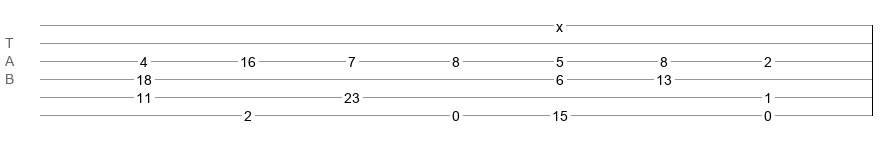0: (452, 108, 460, 118), (764, 108, 772, 118)
1: (764, 90, 772, 100)
11: (136, 90, 152, 100)
13: (656, 72, 672, 82)
15: (552, 108, 568, 118)
16: (240, 54, 256, 64)
18: (136, 72, 152, 82)
2: (244, 108, 252, 118), (764, 54, 772, 64)
23: (344, 90, 360, 100)
4: (140, 54, 148, 64)
5: (556, 54, 564, 64)
6: (556, 72, 564, 82)
7: (348, 54, 356, 64)
8: (452, 54, 460, 64), (660, 54, 668, 64)
x: (556, 19, 563, 27)
